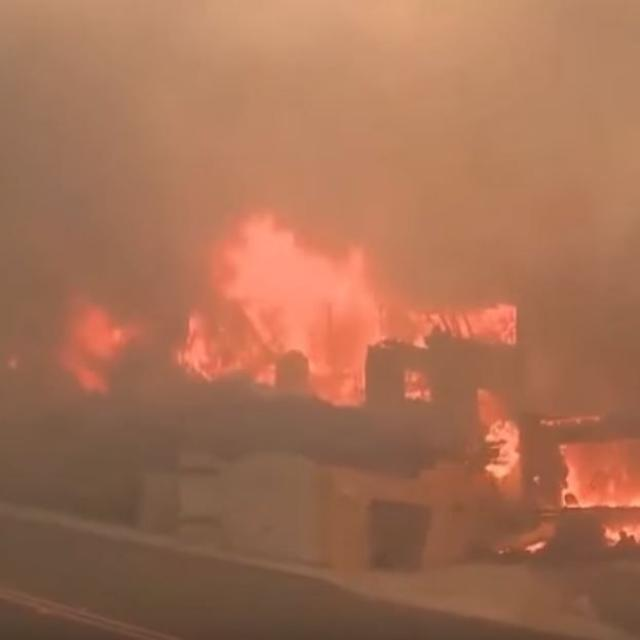Smoke: (0, 0, 623, 293)
